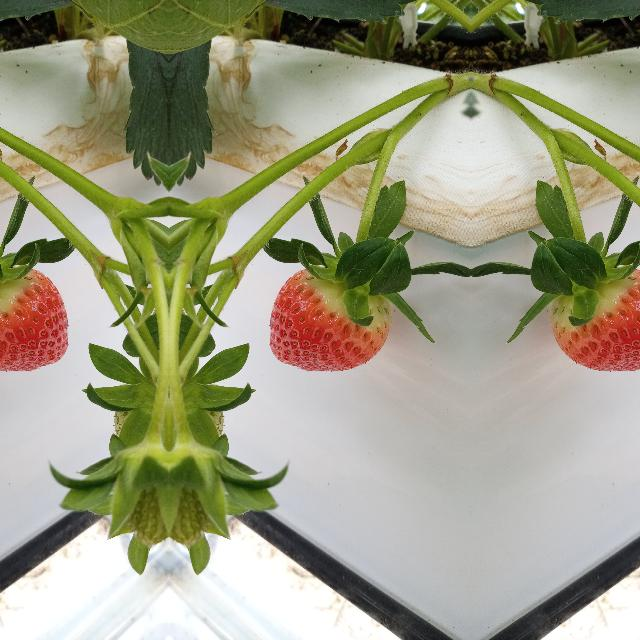Health_100: (268, 266, 392, 372), (549, 266, 640, 372), (0, 266, 67, 372)
